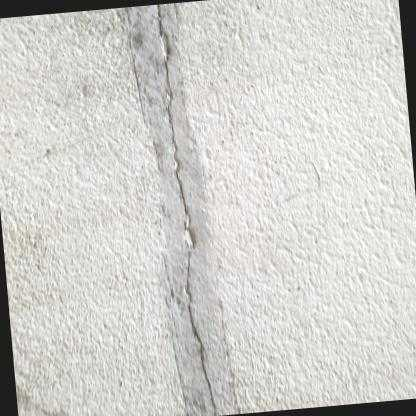crack: (187, 306, 215, 416), (175, 172, 187, 222), (163, 56, 172, 98), (167, 105, 173, 140), (156, 4, 162, 37), (186, 251, 189, 291)
